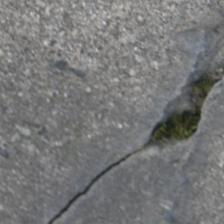Crack: (8, 143, 192, 224), (65, 15, 139, 115)
